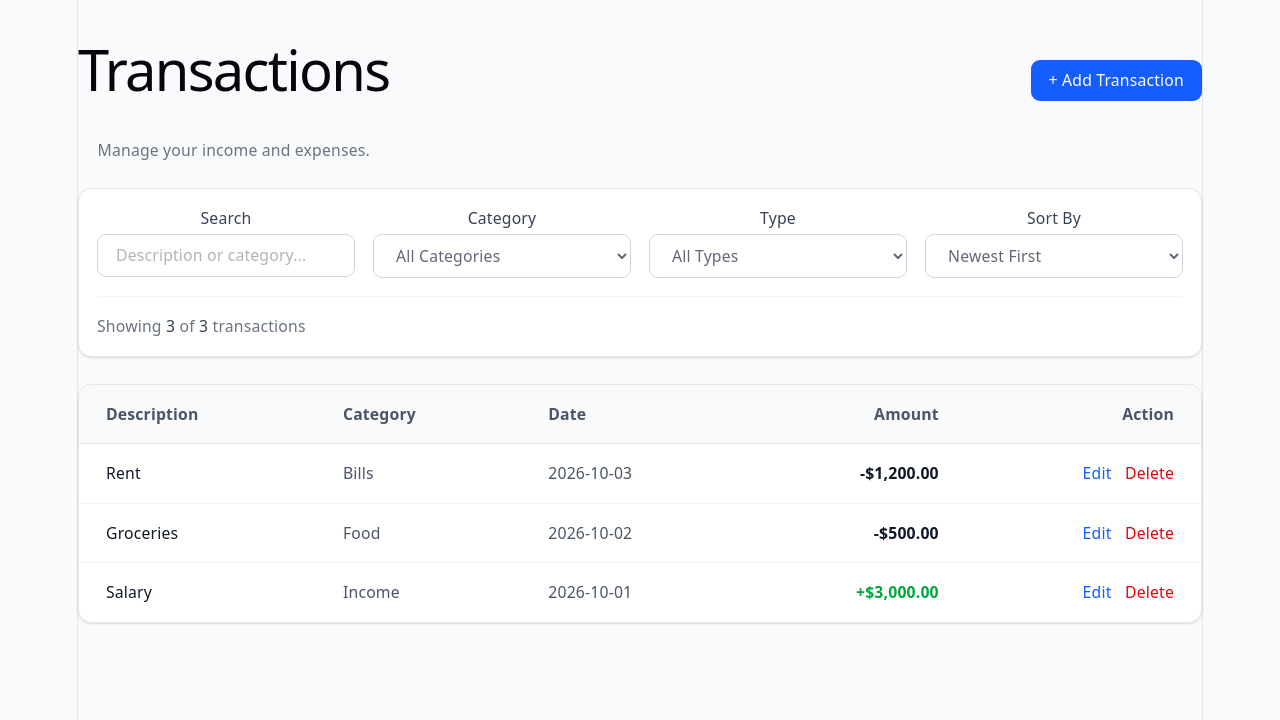
Test: TransactionsPage › resets active filters
In the field with placeholder "Description or category...": (226, 255) [97,234,355,277], type "grocer"
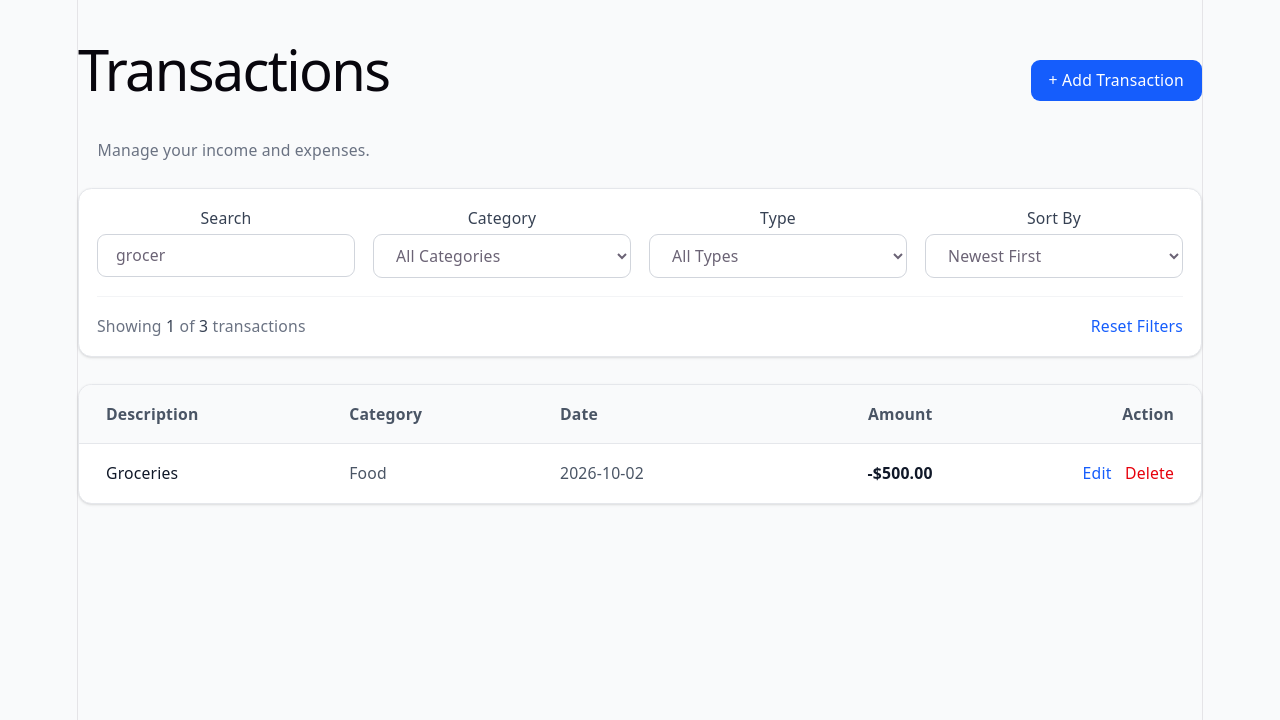
Expected: the button "Reset Filters" is shown
Click the button "Reset Filters": (1137, 326) [1091,315,1183,338]
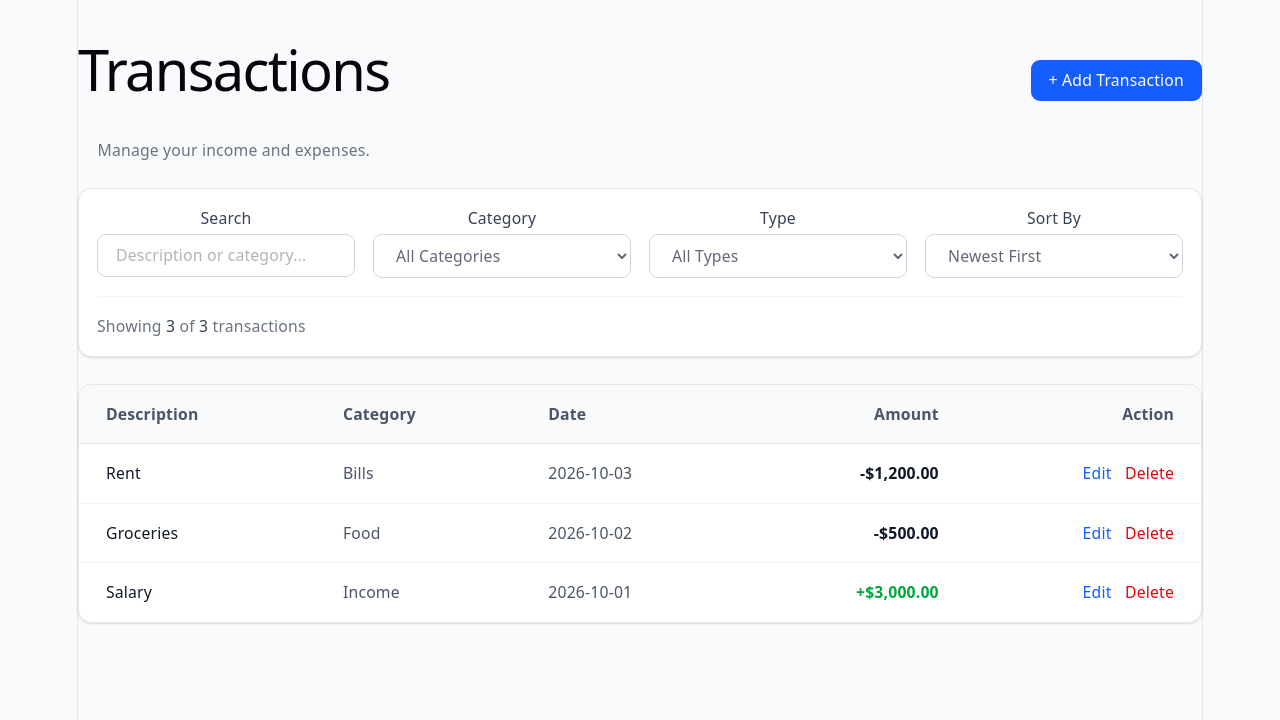
Expected: the field with placeholder "Description or category..." is empty, [97,234,355,277]
Expected: the text "Salary" is shown, [79,563,316,622]
Expected: the text "Rent" is shown, [79,444,316,503]
